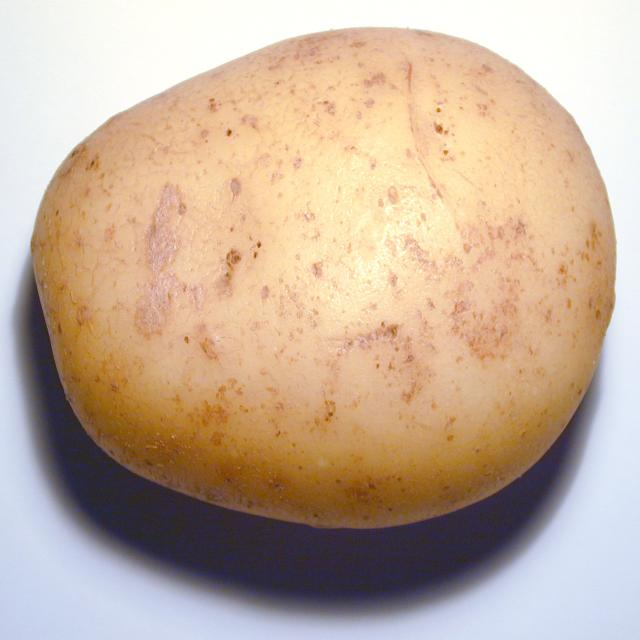potato: (21, 31, 616, 542)
